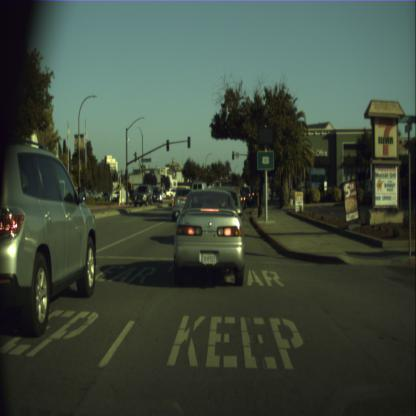Red: (232, 150, 234, 160)
RedLeft: (160, 174, 162, 182)
